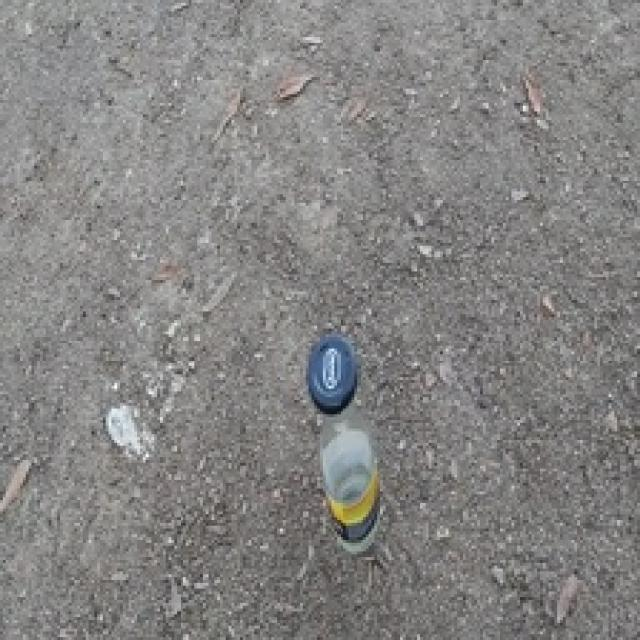Glass: (322, 402, 384, 554)
